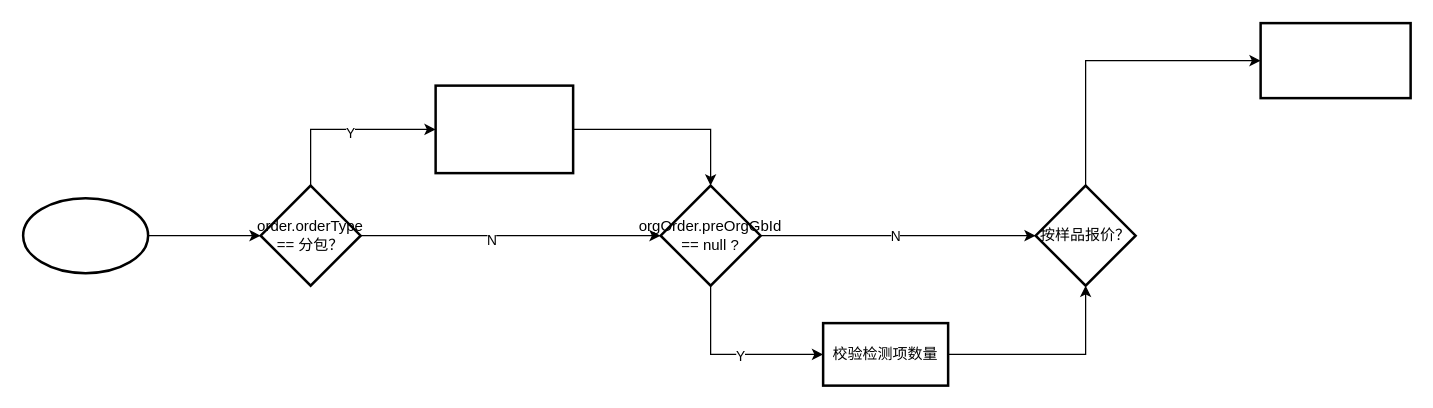
This 1433x408 diagram has some shape labels left out. The shapes that lost their labels are listed below. From the top down, each one's centre as x and y in pixels, then its label:
At point (504, 129): "更新order为自测".
At point (85, 235): "start".
